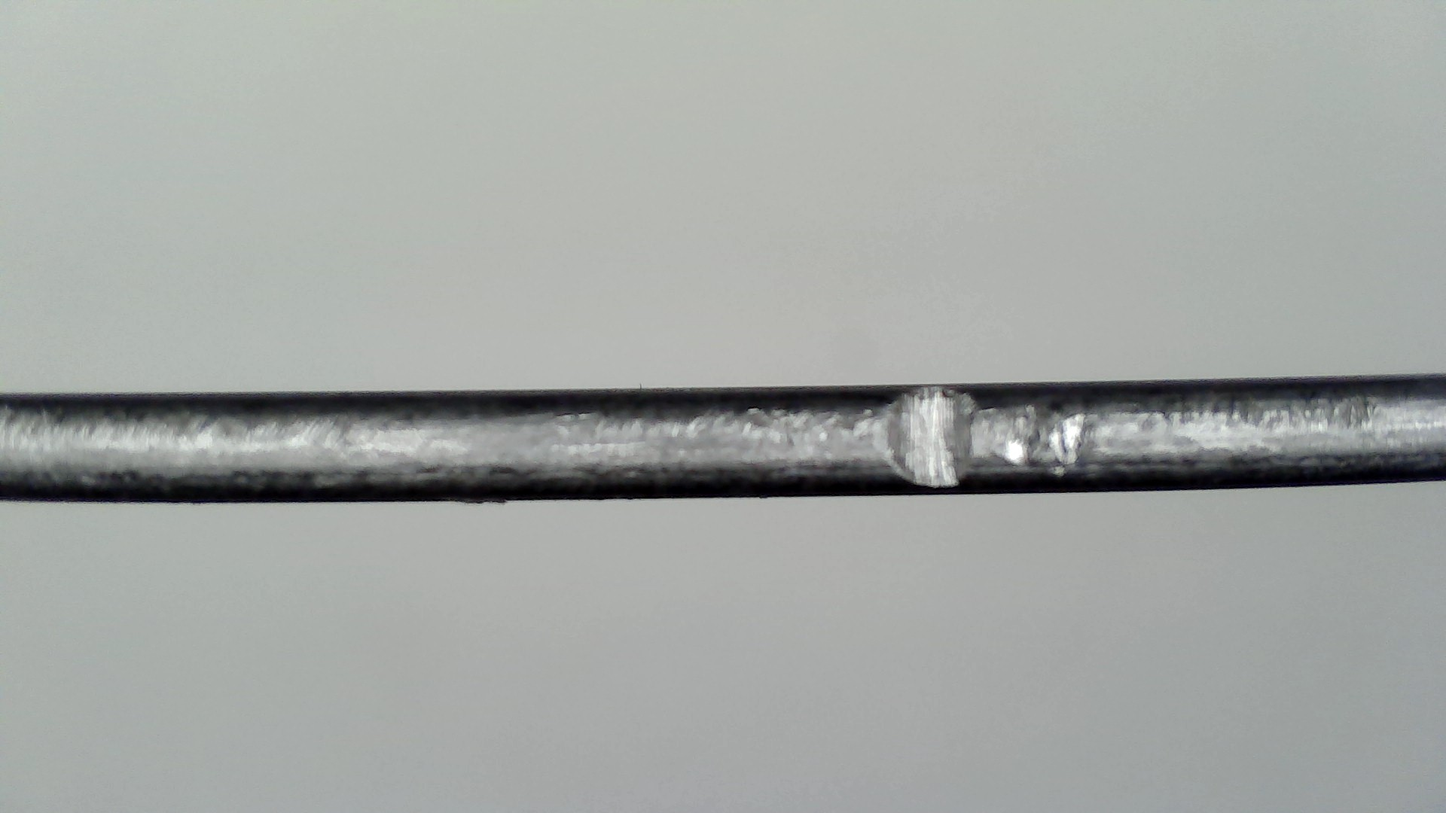defect: (873, 384, 1082, 478), (1161, 387, 1373, 424)
